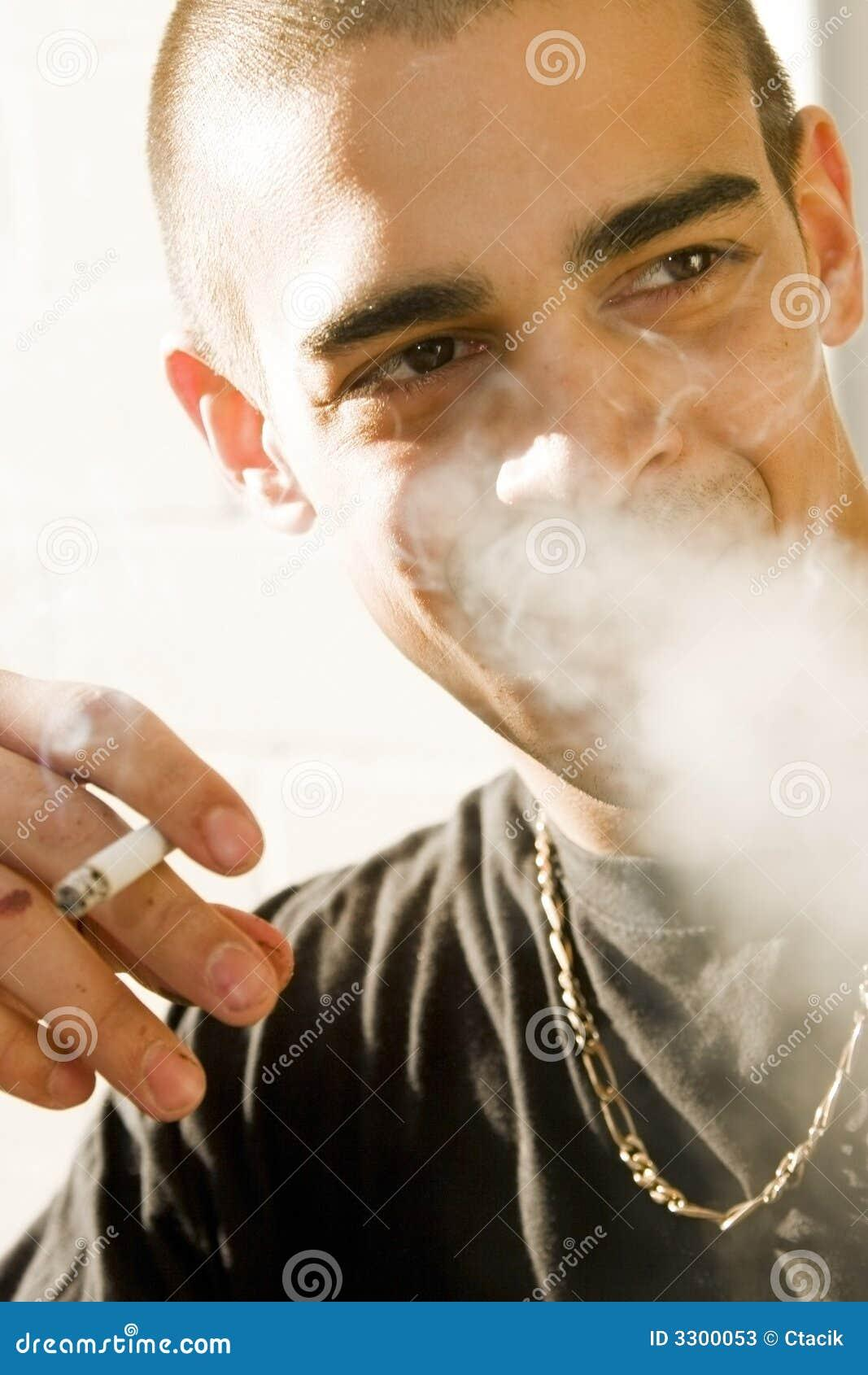cigarette: (54, 824, 173, 917)
